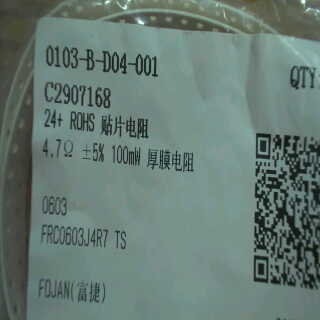4.7R: (41, 135, 79, 161)
